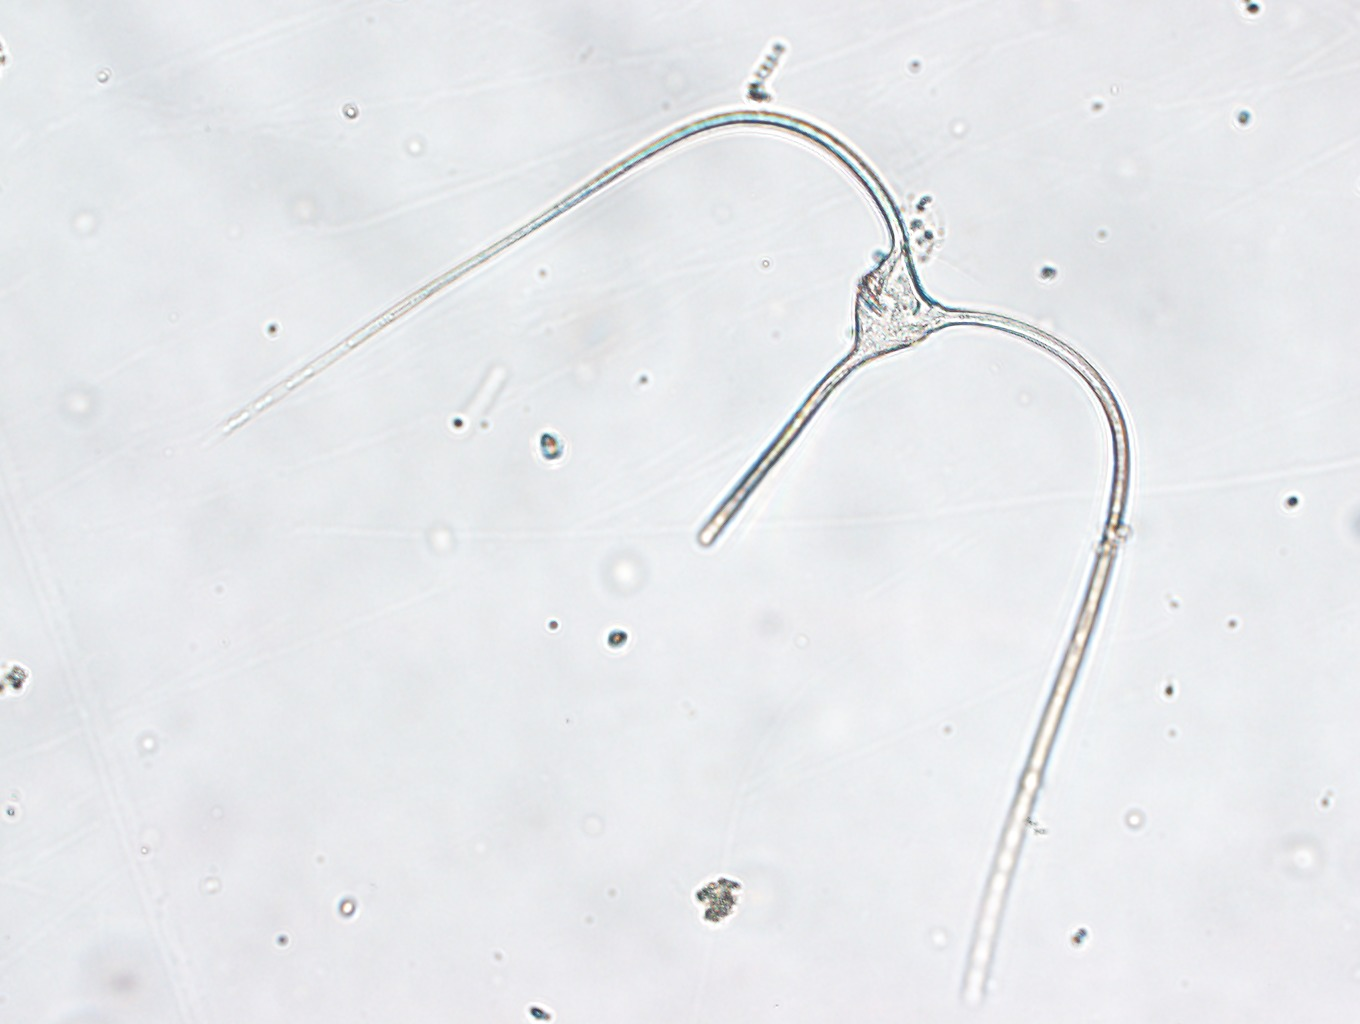ceratium trichoceros: (207, 85, 1139, 996)
